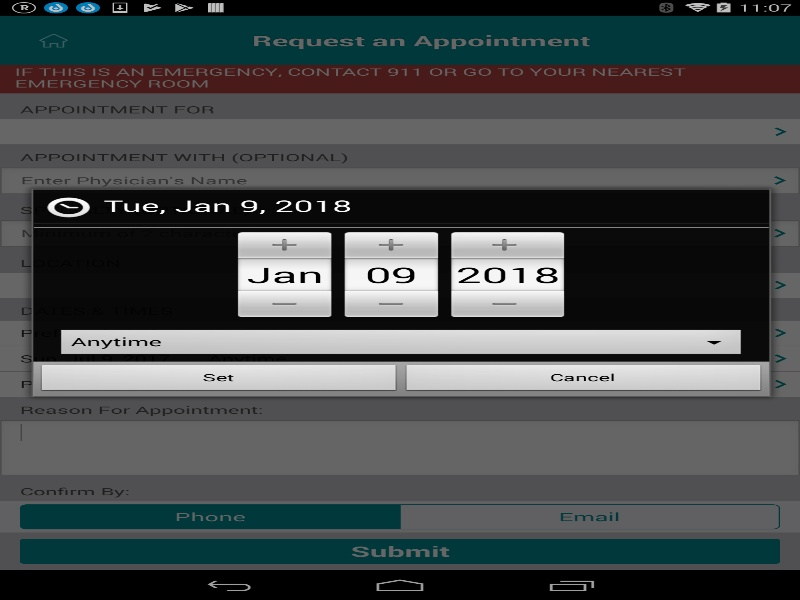Button: (36, 364, 401, 394), (401, 364, 766, 394), (446, 230, 569, 258), (446, 291, 569, 318), (232, 230, 336, 258), (339, 230, 443, 258), (232, 291, 336, 318), (339, 291, 443, 318)
Input: (446, 258, 569, 291), (232, 258, 336, 291), (339, 258, 443, 291)
